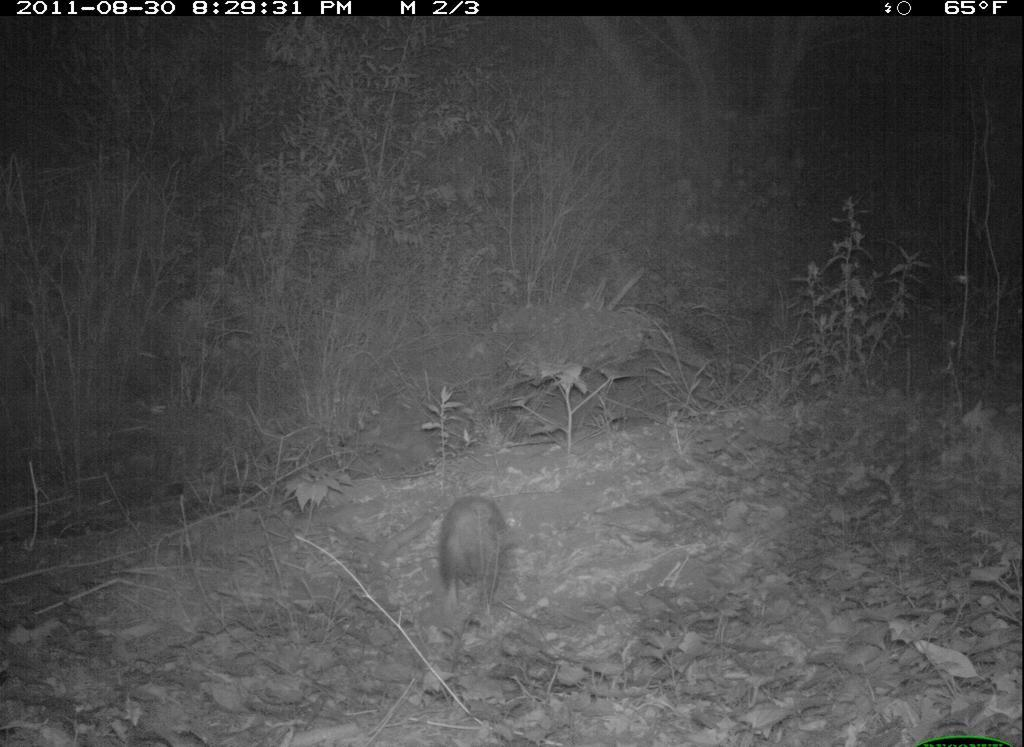opossum: (420, 496, 516, 649)
